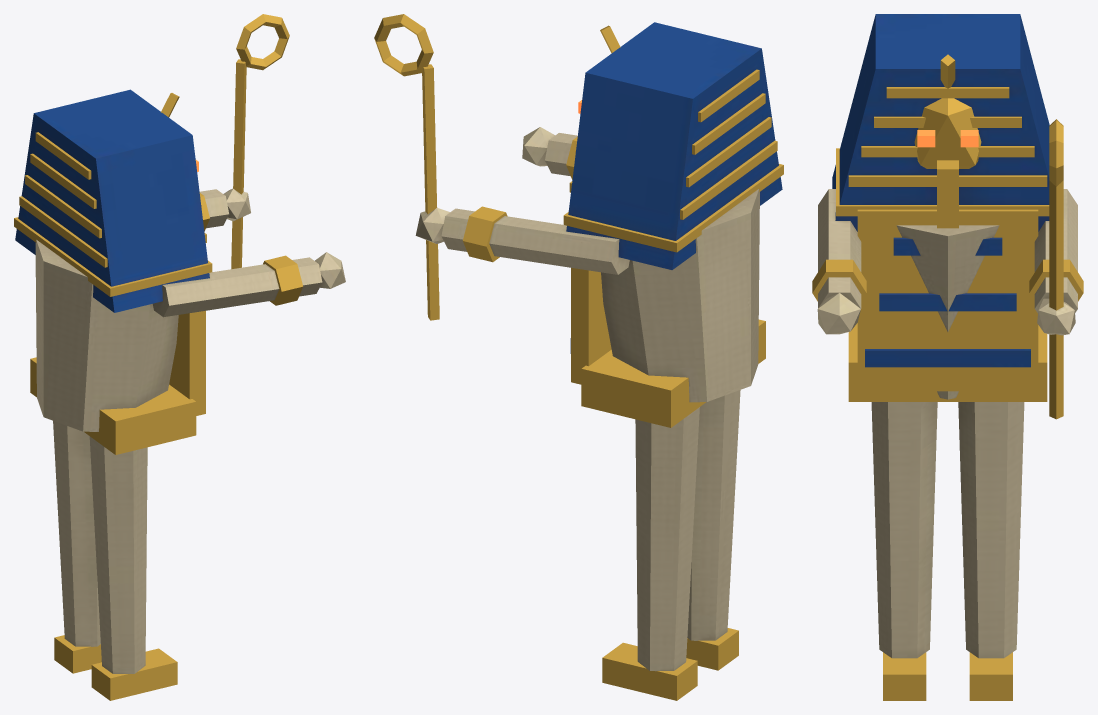
Rendered from farao_tex.glb.
The picture shows the model from 3 angles, left to right: view 1: azimuth 30°, elevation 25°; view 2: azimuth 150°, elevation 25°; view 3: azimuth 270°, elevation 25°; orthographic projection. The views are drawn at different scales.
Parts seen in each view (by area): view 1: Kropp, BenH, BenV, ArmH, ArmV; view 2: Kropp, BenV, ArmV, BenH, ArmH; view 3: Kropp, BenH, BenV, ArmV, ArmH.
Part boxes in pixels (left/top/right/bottom): Kropp: left=14, top=89, right=212, bottom=454; BenH: left=89, top=436, right=177, bottom=700; BenV: left=53, top=421, right=101, bottom=673; ArmH: left=153, top=252, right=345, bottom=317; ArmV: left=199, top=14, right=289, bottom=269; Kropp: left=563, top=22, right=783, bottom=427; BenV: left=602, top=407, right=699, bottom=700; ArmV: left=374, top=14, right=629, bottom=320; BenH: left=686, top=390, right=740, bottom=670; ArmH: left=522, top=127, right=577, bottom=179; Kropp: left=832, top=14, right=1049, bottom=401; BenH: left=871, top=402, right=937, bottom=700; BenV: left=958, top=402, right=1024, bottom=700; ArmV: left=1029, top=119, right=1083, bottom=419; ArmH: left=812, top=189, right=866, bottom=334.
Bounding box in the file's own units: 1.09 × 2.05 × 0.75.
4 materials, 2 textured.
